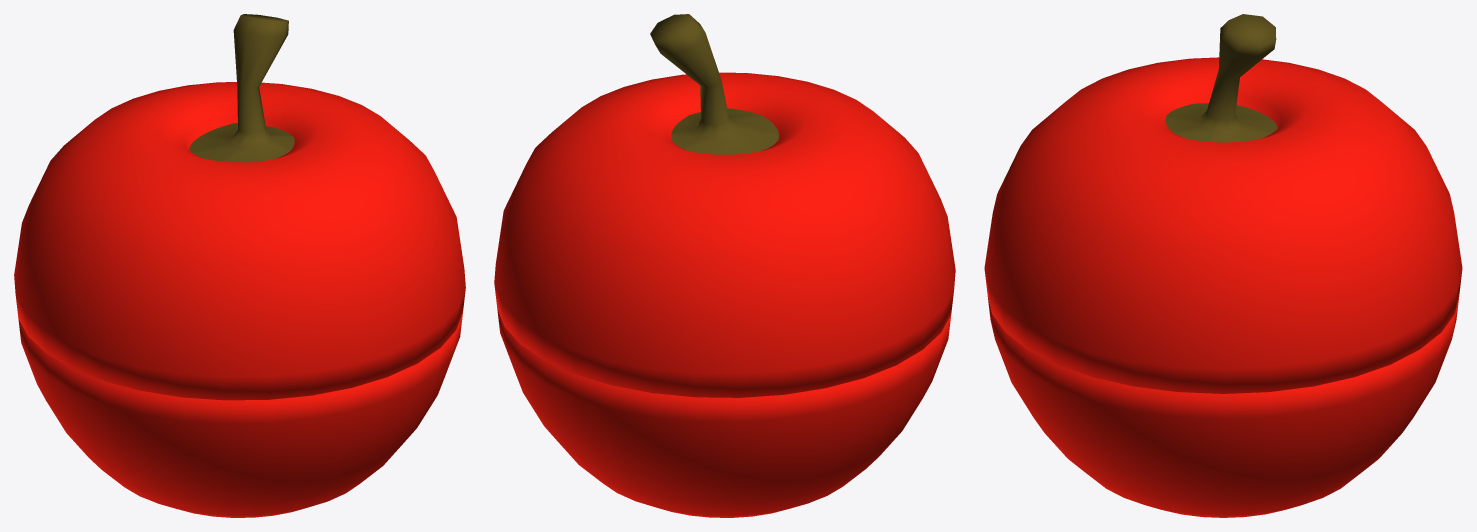
Rendered from AppleSplit.fbx.
3 renders of one model, left to right at view 1: azimuth 30°, elevation 25°; view 2: azimuth 150°, elevation 25°; view 3: azimuth 270°, elevation 25°, orthographic. The views are drawn at different scales.
Parts seen in each view (by area): view 1: Apple.001, Apple.002; view 2: Apple.001, Apple.002; view 3: Apple.001, Apple.002.
Part boxes in pixels (x1,y1,x2,y2): Apple.001: (14,14,465,400); Apple.002: (18,313,462,517); Apple.001: (494,14,955,397); Apple.002: (497,309,951,517); Apple.001: (984,14,1462,393); Apple.002: (987,296,1459,517).
Bounding box in the file's own units: 632 × 686 × 632.
2 materials, 2 textured.
